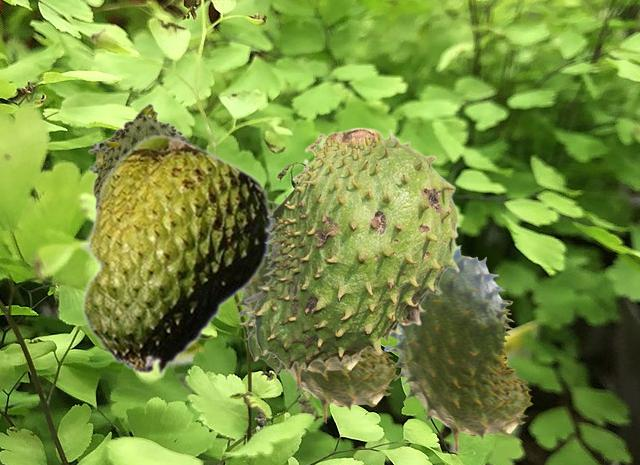guyabano: (243, 127, 460, 371), (78, 133, 273, 377), (384, 245, 532, 452), (233, 193, 368, 388), (237, 165, 305, 375), (88, 102, 190, 206), (272, 348, 397, 422)
